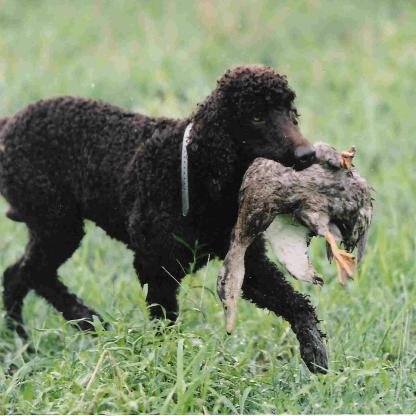Irish_water_spaniel: (0, 60, 328, 374)
